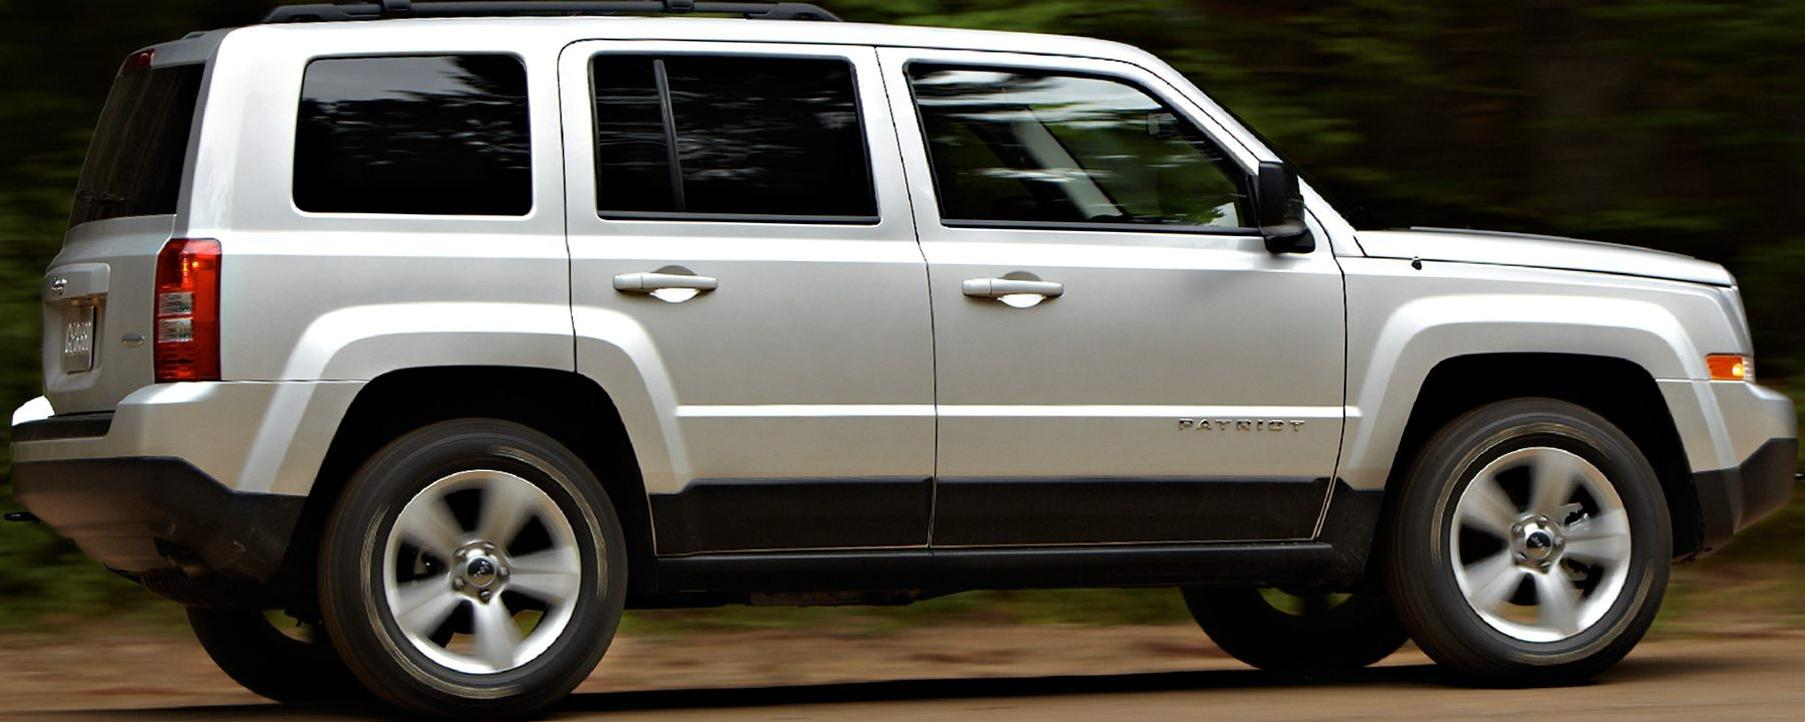backlight: (144, 236, 237, 392)
side_glass: (244, 18, 1317, 284)
